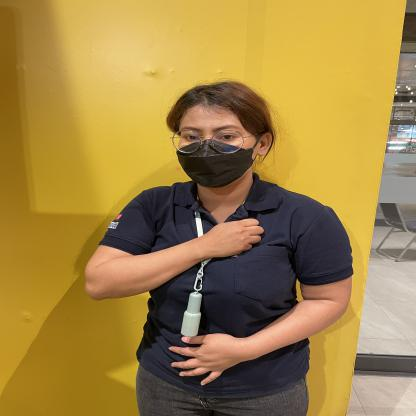Sadness: (136, 199, 298, 284)
